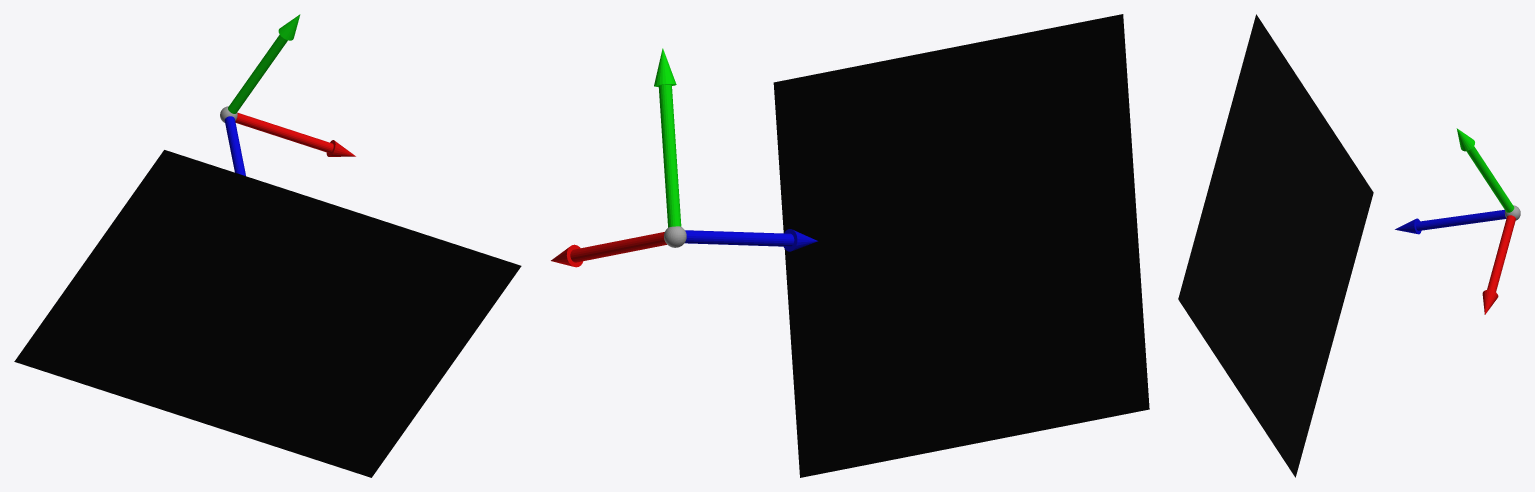
3 views of the same model, side by side, from view 1: azimuth 30°, elevation 25°; view 2: azimuth 150°, elevation 25°; view 3: azimuth 270°, elevation 25° (orthographic). The views are drawn at different scales.
Size of the model in its own units: 0.3943 by 0.3734 by 0.3197.
